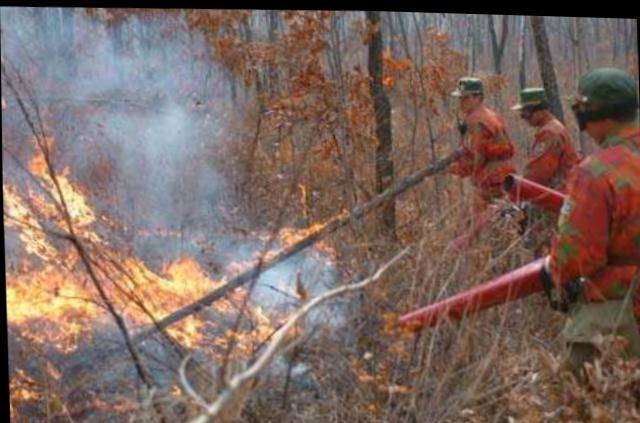fire: (2, 130, 350, 378)
